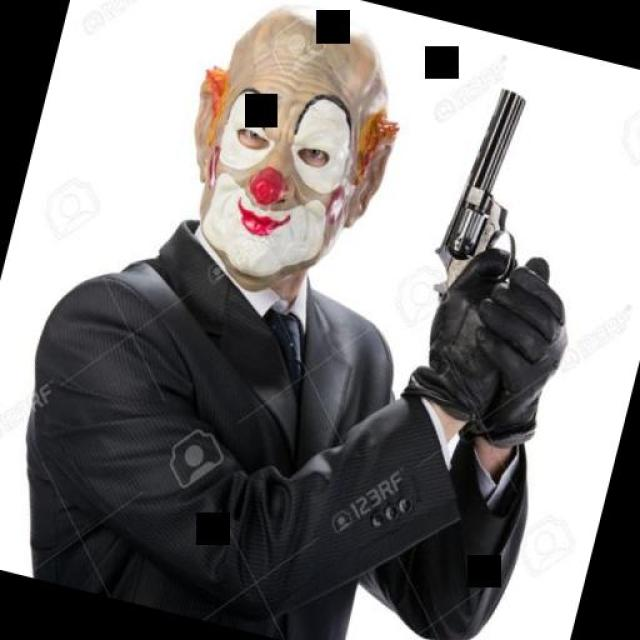gun: (415, 75, 577, 344)
